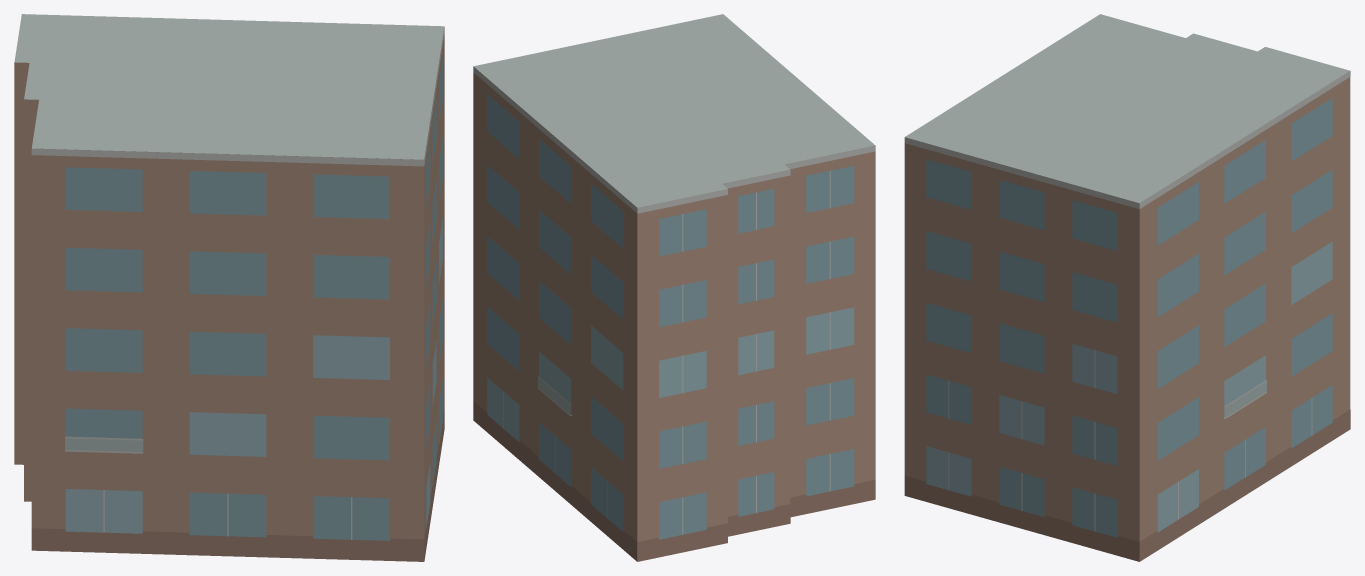
Rendered from survey-upis-32991746.glb.
The picture shows the model from 3 angles, left to right: view 1: azimuth 30°, elevation 25°; view 2: azimuth 150°, elevation 25°; view 3: azimuth 270°, elevation 25°; orthographic projection. The views are drawn at different scales.
Parts seen in each view (by area): view 1: survey-upis-32991746.tmp; view 2: survey-upis-32991746.tmp; view 3: survey-upis-32991746.tmp.
Boxes of the visible parts, x1,y1,x2,y2 form: survey-upis-32991746.tmp: (14,14,444,561); survey-upis-32991746.tmp: (473,14,875,561); survey-upis-32991746.tmp: (904,14,1350,561).
Bounding box in the file's own units: 16.58 × 14.64 × 16.5.
